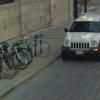Bicycle: (0, 22, 52, 87)
